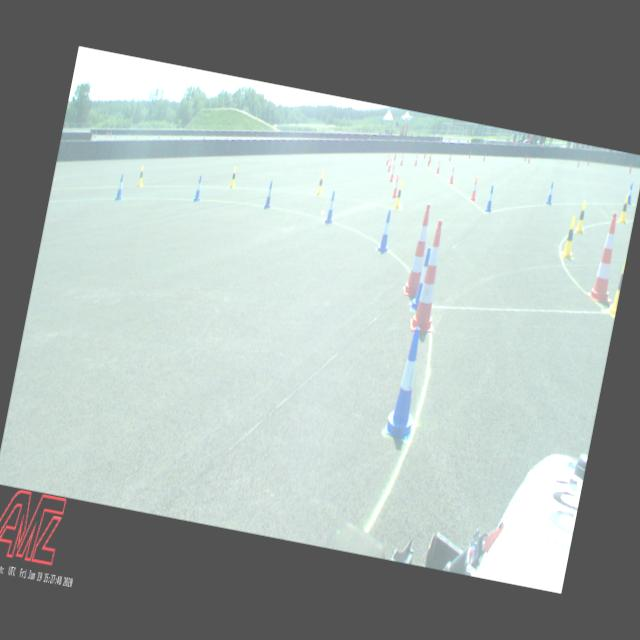blue_cone: (384, 326, 431, 438), (411, 247, 432, 310), (377, 209, 395, 253), (324, 191, 338, 224), (264, 180, 276, 209), (115, 174, 127, 200), (485, 185, 496, 212), (193, 176, 204, 202), (626, 182, 636, 205), (546, 182, 556, 204)
large_orange_cone: (410, 219, 452, 333), (589, 211, 626, 302), (404, 203, 435, 295)
orange_cone: (392, 174, 402, 198), (470, 178, 480, 202), (449, 166, 456, 184), (389, 164, 396, 182), (387, 157, 393, 172), (436, 160, 442, 174), (426, 155, 432, 167), (386, 153, 391, 165), (400, 153, 404, 166), (414, 154, 418, 167)
yellow_cone: (609, 254, 627, 313), (562, 216, 580, 259), (574, 200, 588, 233), (618, 194, 631, 224), (393, 182, 405, 210), (316, 172, 326, 196), (229, 166, 239, 188), (137, 166, 146, 187)
